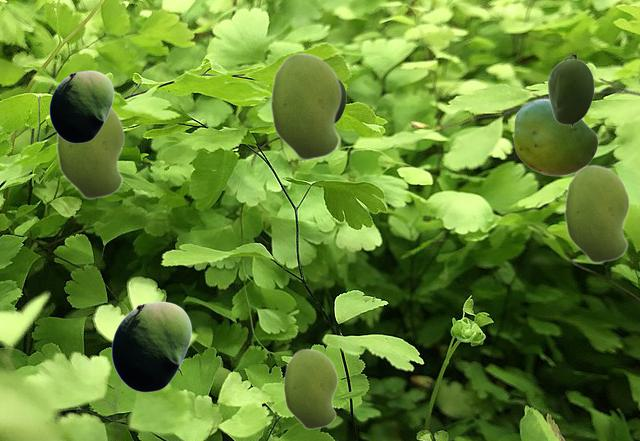green_mango: (270, 52, 341, 160), (111, 301, 191, 391), (513, 98, 597, 175), (564, 164, 629, 263), (56, 107, 124, 199), (49, 70, 113, 142), (283, 348, 337, 429), (547, 55, 593, 127), (337, 78, 345, 122)
